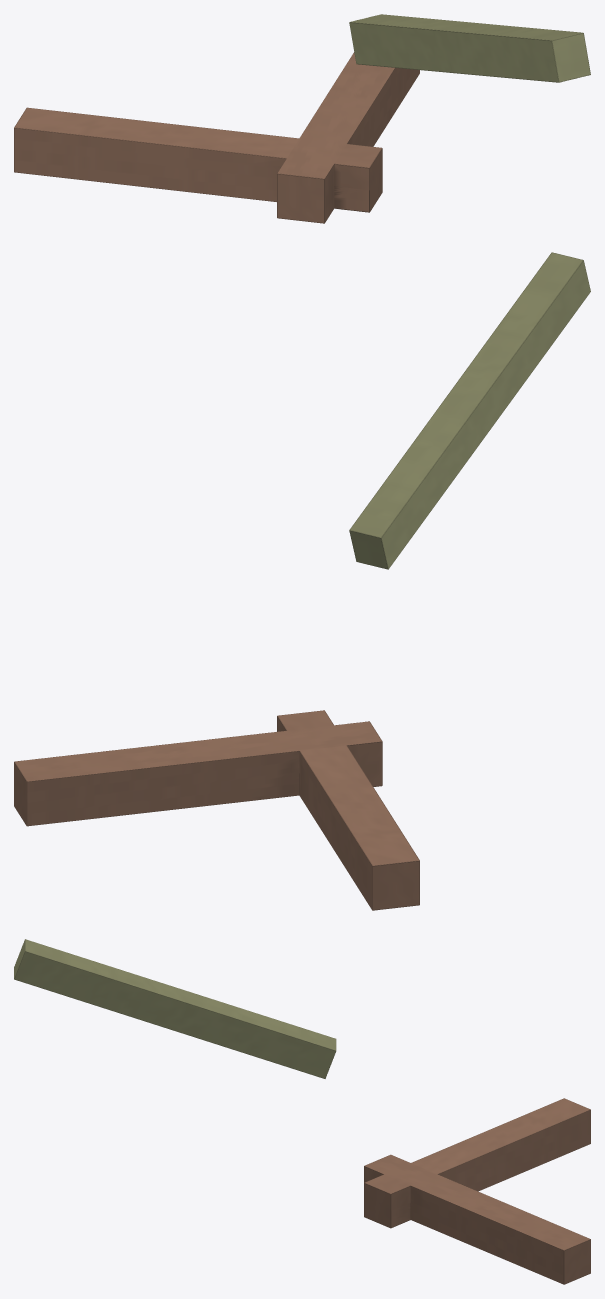
The model's file is hip-over-plate.glb.
The picture shows the model from 3 angles, top to bottom: view 1: azimuth 30°, elevation 25°; view 2: azimuth 150°, elevation 25°; view 3: azimuth 270°, elevation 25°; orthographic projection. The views are drawn at different scales.
Visible parts, largest first — view 1: part-a, part-c, part-b; view 2: part-b, part-c, part-a; view 3: part-c, part-b, part-a.
Boxes of the visible parts, left/top/right/bottom form: part-a: left=14, top=107, right=382, bottom=212; part-c: left=349, top=14, right=590, bottom=82; part-b: left=277, top=52, right=419, bottom=223; part-b: left=14, top=721, right=382, bottom=826; part-c: left=349, top=252, right=590, bottom=569; part-a: left=277, top=710, right=419, bottom=910; part-c: left=14, top=939, right=336, bottom=1078; part-b: left=364, top=1154, right=590, bottom=1284; part-a: left=364, top=1098, right=590, bottom=1228.
Size of the model in its own units: 1.15 by 0.9253 by 1.84.
